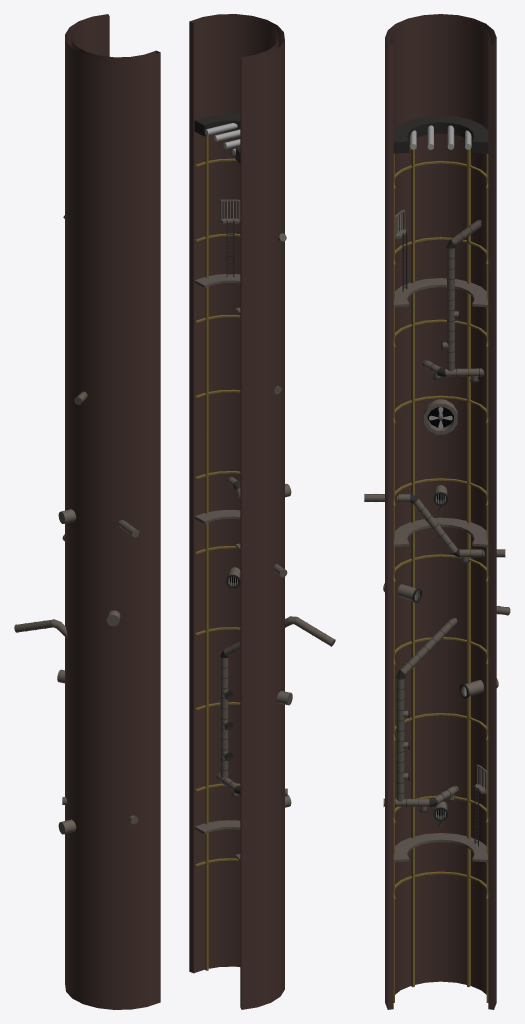
File: Background_v04_Combined.fbx
3 views of the same model, side by side, from view 1: azimuth 30°, elevation 25°; view 2: azimuth 210°, elevation 25°; view 3: azimuth 270°, elevation 25° (orthographic).
Visible parts, largest first — view 1: Background; view 2: Background; view 3: Background.
Boxes of the visible parts, x1=… form: Background: x1=14, y1=14, x2=160, y2=1009; Background: x1=189, y1=14, x2=335, y2=1009; Background: x1=364, y1=14, x2=510, y2=1009.
Bounding box in the file's own units: 15.74 × 162 × 22.26.
